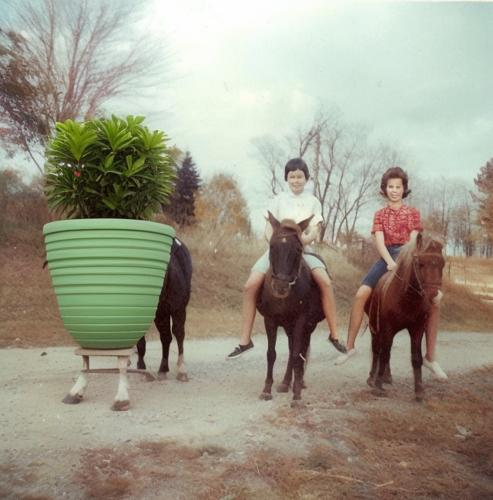horse: (38, 171, 195, 401), (349, 232, 450, 406), (249, 209, 336, 408)
person: (229, 157, 351, 374), (348, 166, 453, 385)
person/foot: (422, 358, 447, 380), (227, 341, 255, 360), (327, 335, 349, 356), (334, 350, 358, 365)
person/hand: (387, 263, 397, 271)
person/head: (287, 156, 308, 192), (385, 169, 406, 200)
pottedplant: (44, 115, 173, 373)
